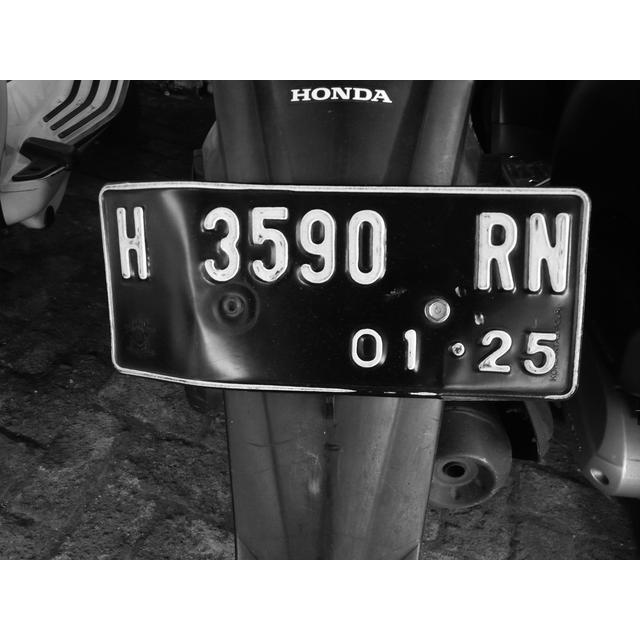license: (110, 195, 576, 380)
